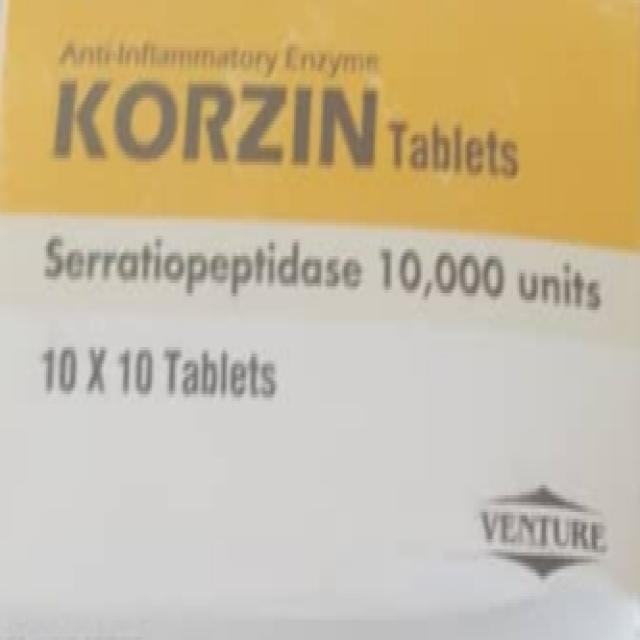drug-name: (48, 76, 382, 172)
